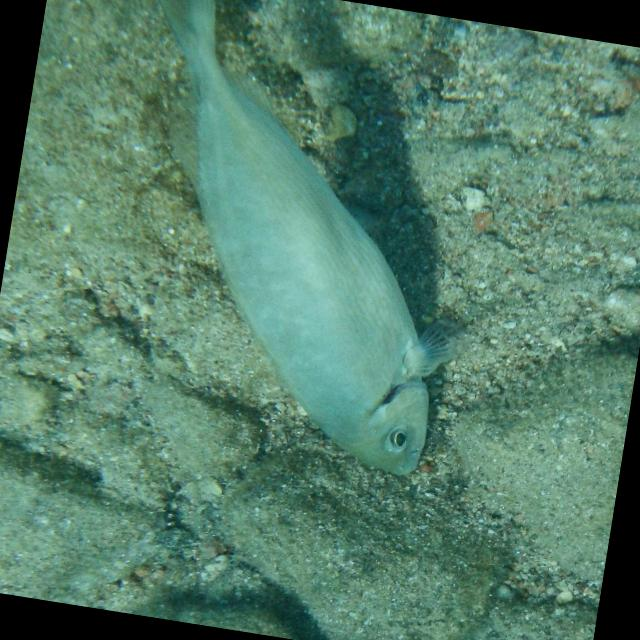Sokar Baligi: (44, 0, 520, 502)
